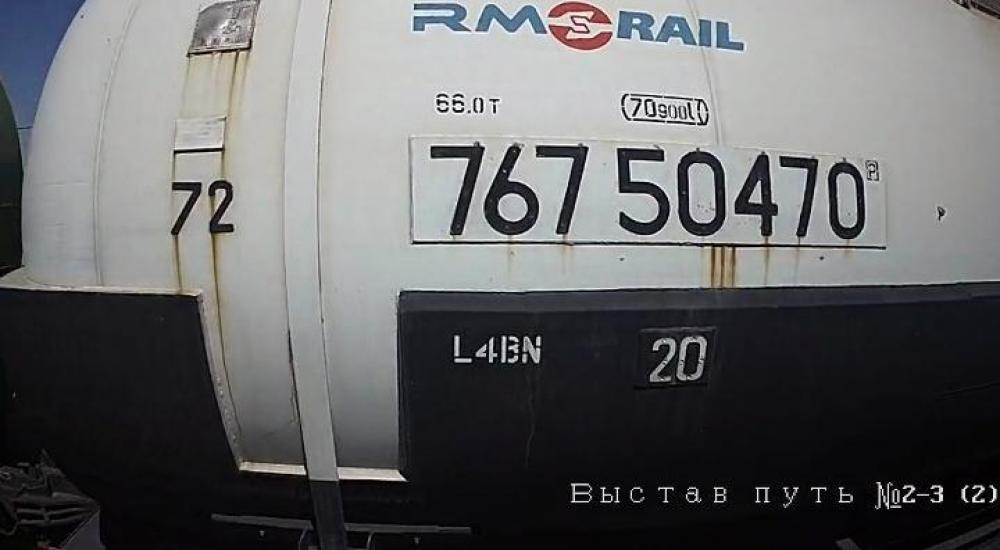Wagon-number: (423, 135, 868, 244)
